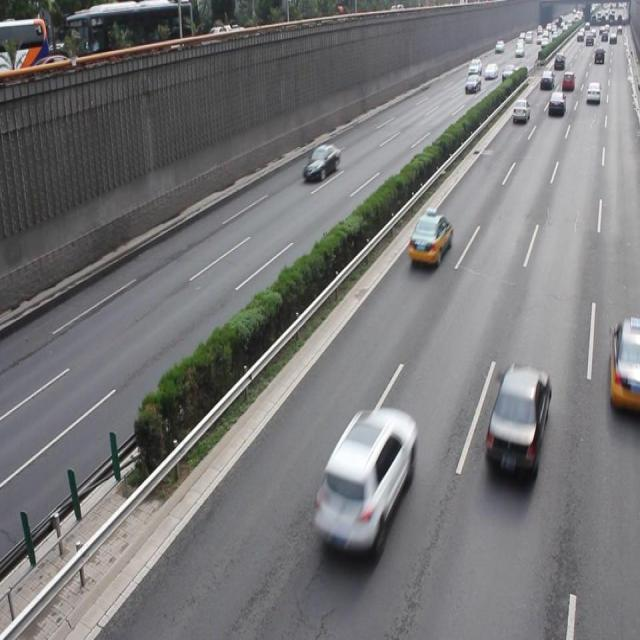car: (311, 405, 414, 560), (484, 363, 550, 482), (606, 316, 640, 416), (407, 208, 452, 266), (301, 140, 340, 182)
